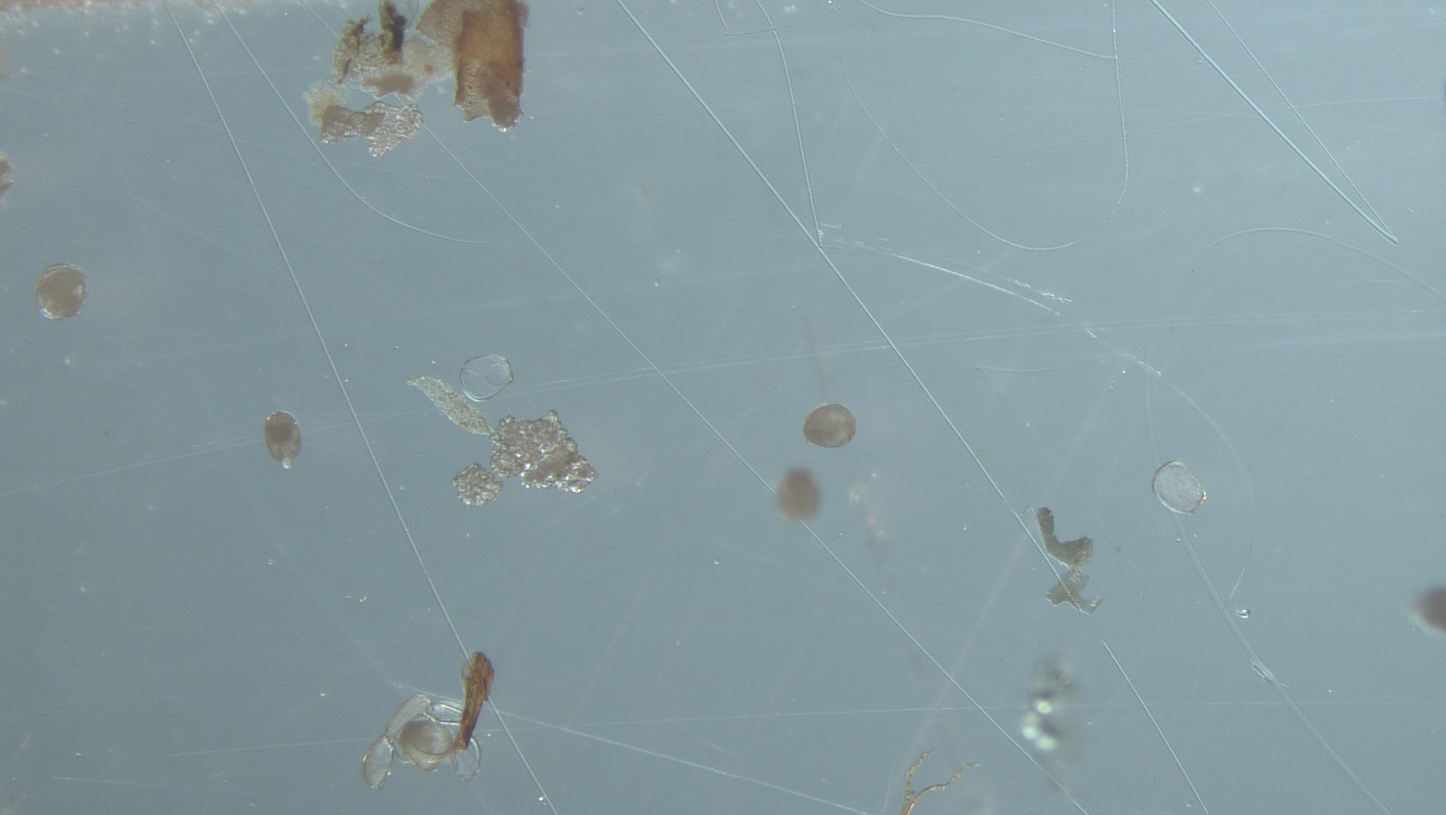dead: (1152, 461, 1206, 514), (460, 354, 513, 401)
live: (398, 714, 457, 772), (35, 264, 87, 320), (777, 467, 821, 522), (803, 404, 856, 449), (264, 411, 301, 468)
